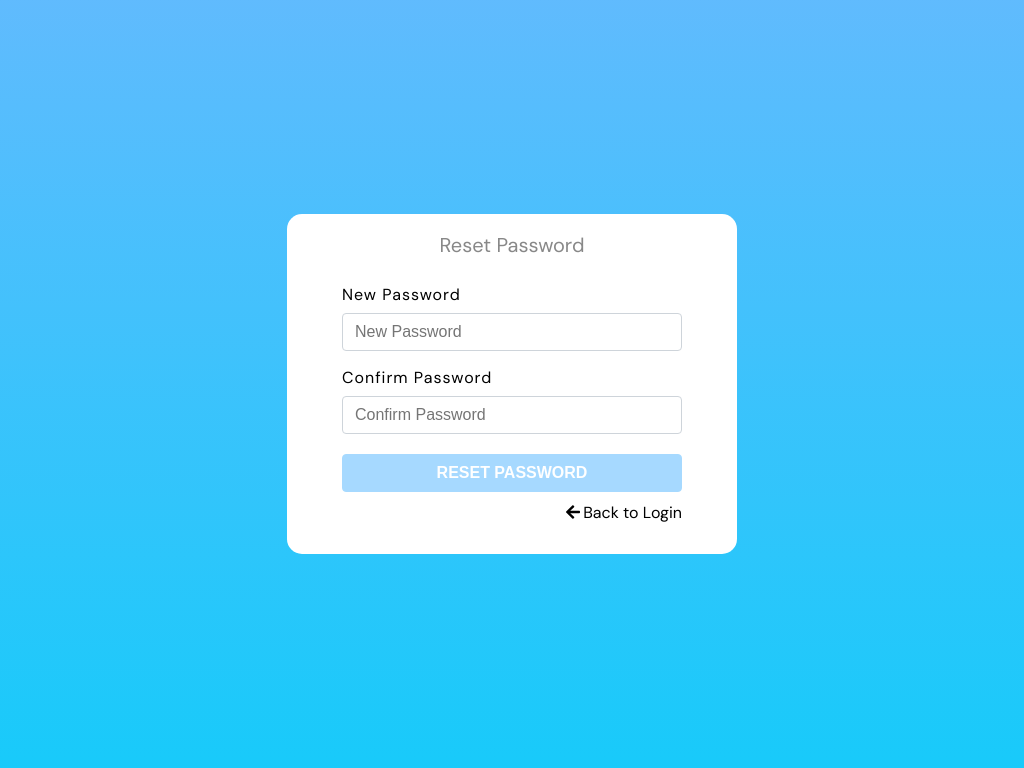
Test case: ResetPassword › Error › should display error alert and border
Type "qwerty1" into the password field labelled "New Password" at point(512, 332), box [342, 313, 682, 351]
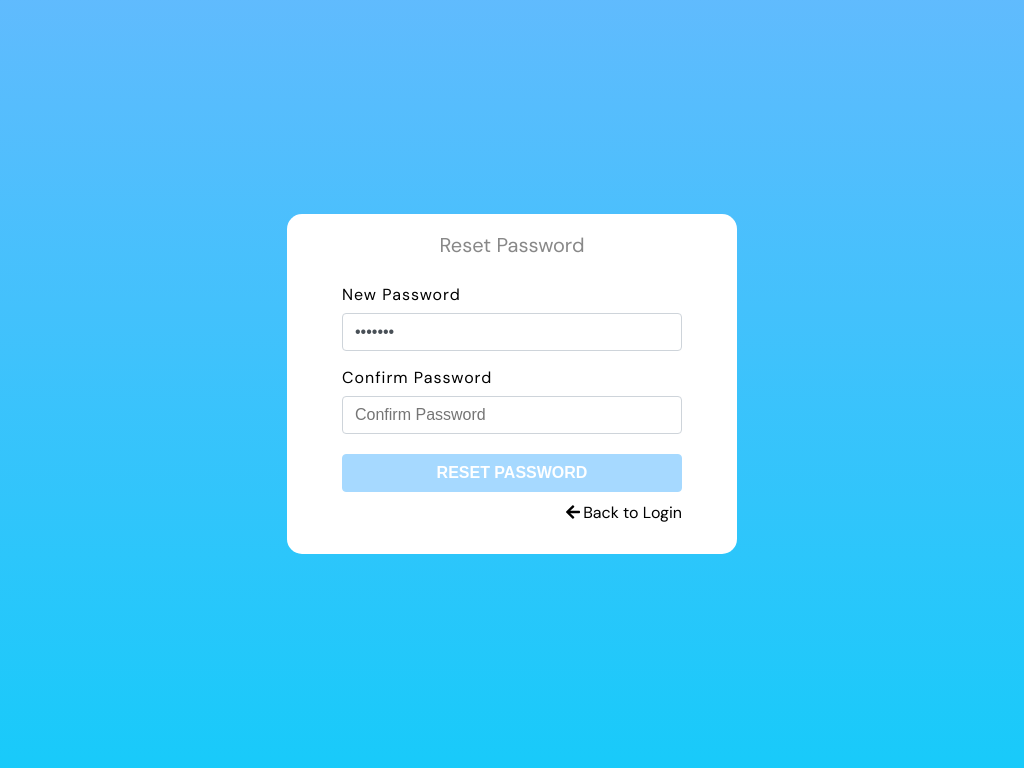
Type "qwerty" into the password field labelled "Confirm Password" at point(512, 415), box [342, 396, 682, 434]
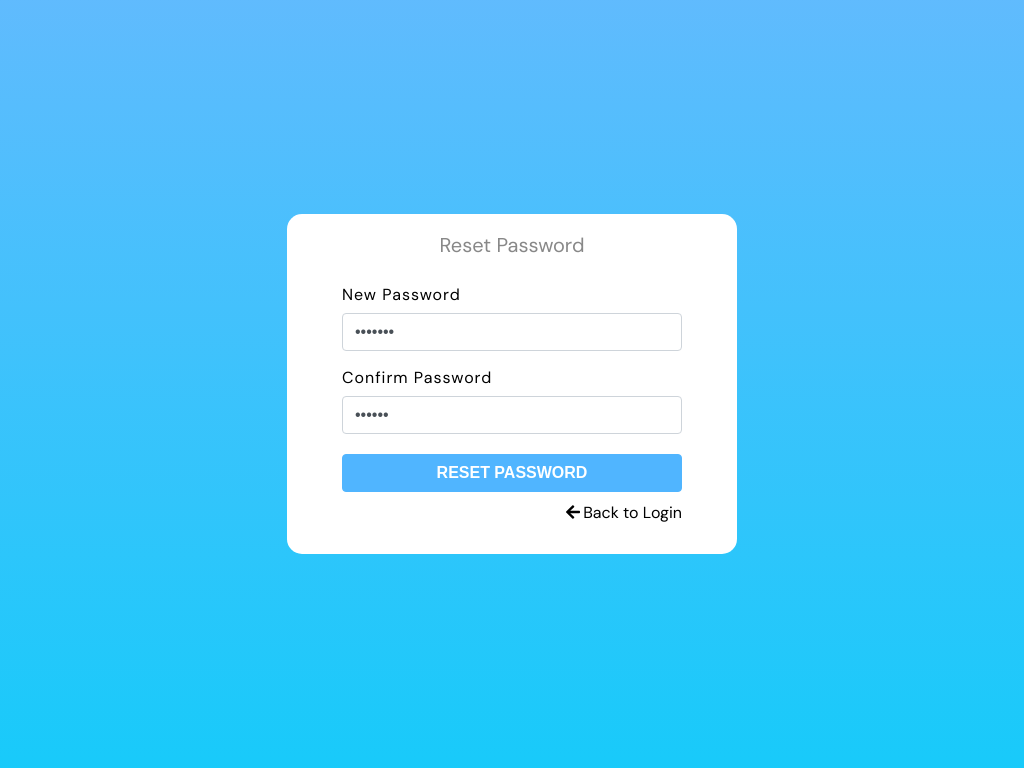
Click the button at point(512, 473), box [342, 454, 682, 492]
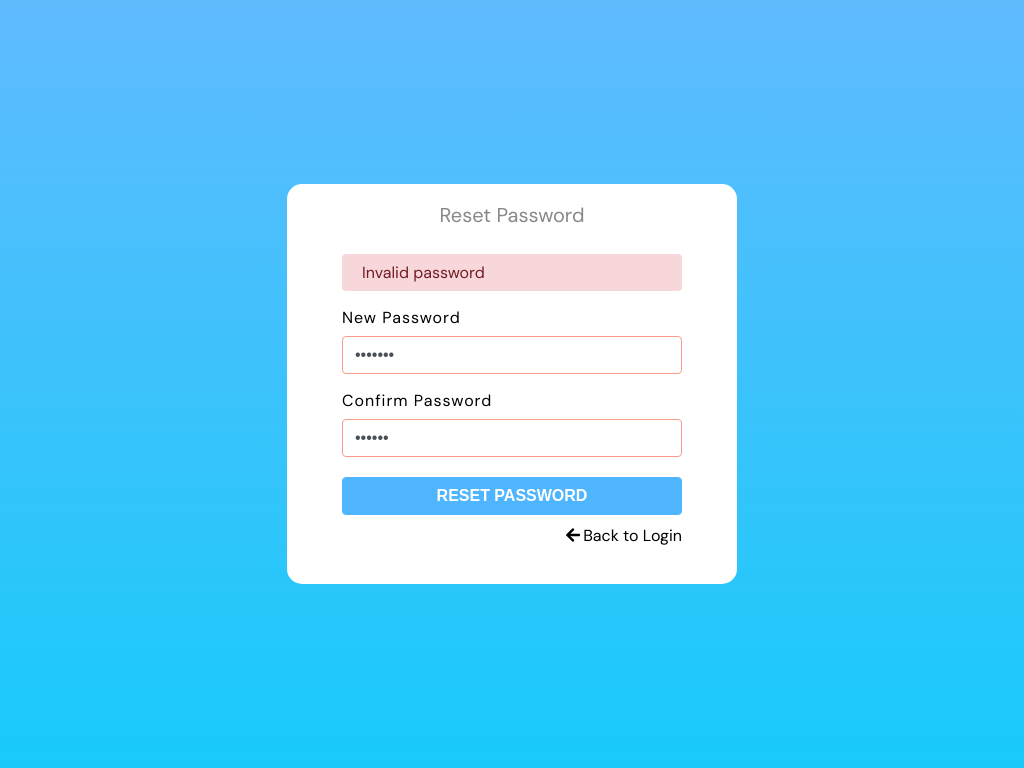
Result: the message "Invalid password" is shown at [342, 254, 682, 291]
Result: the message reads "Invalid password" at [362, 262, 485, 283]
